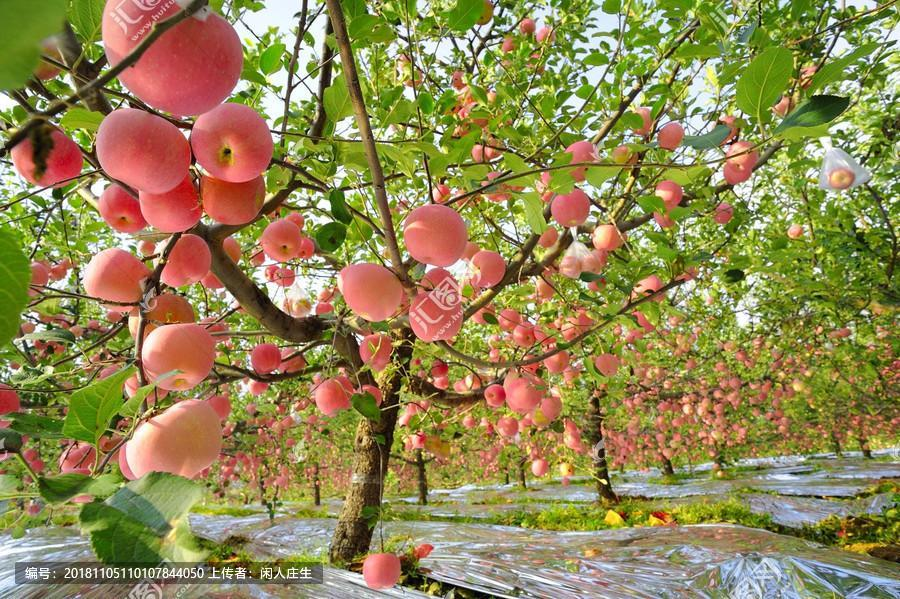apple: (103, 2, 240, 113), (101, 107, 188, 198), (126, 400, 220, 483), (193, 102, 273, 180), (144, 323, 216, 393), (404, 203, 469, 269), (81, 249, 150, 311), (344, 265, 401, 323), (158, 236, 213, 287), (97, 183, 147, 236), (259, 214, 309, 263), (550, 188, 590, 226), (592, 223, 622, 252)
